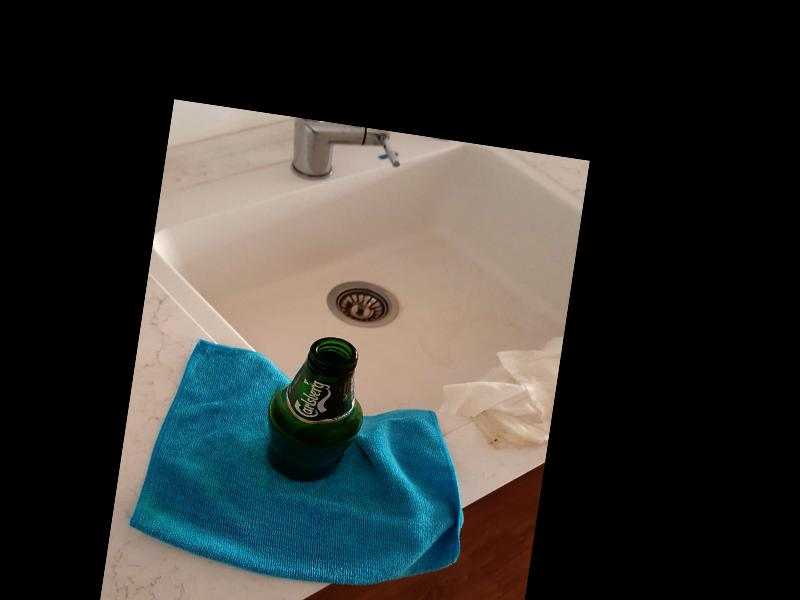Beer: (262, 331, 374, 490)
